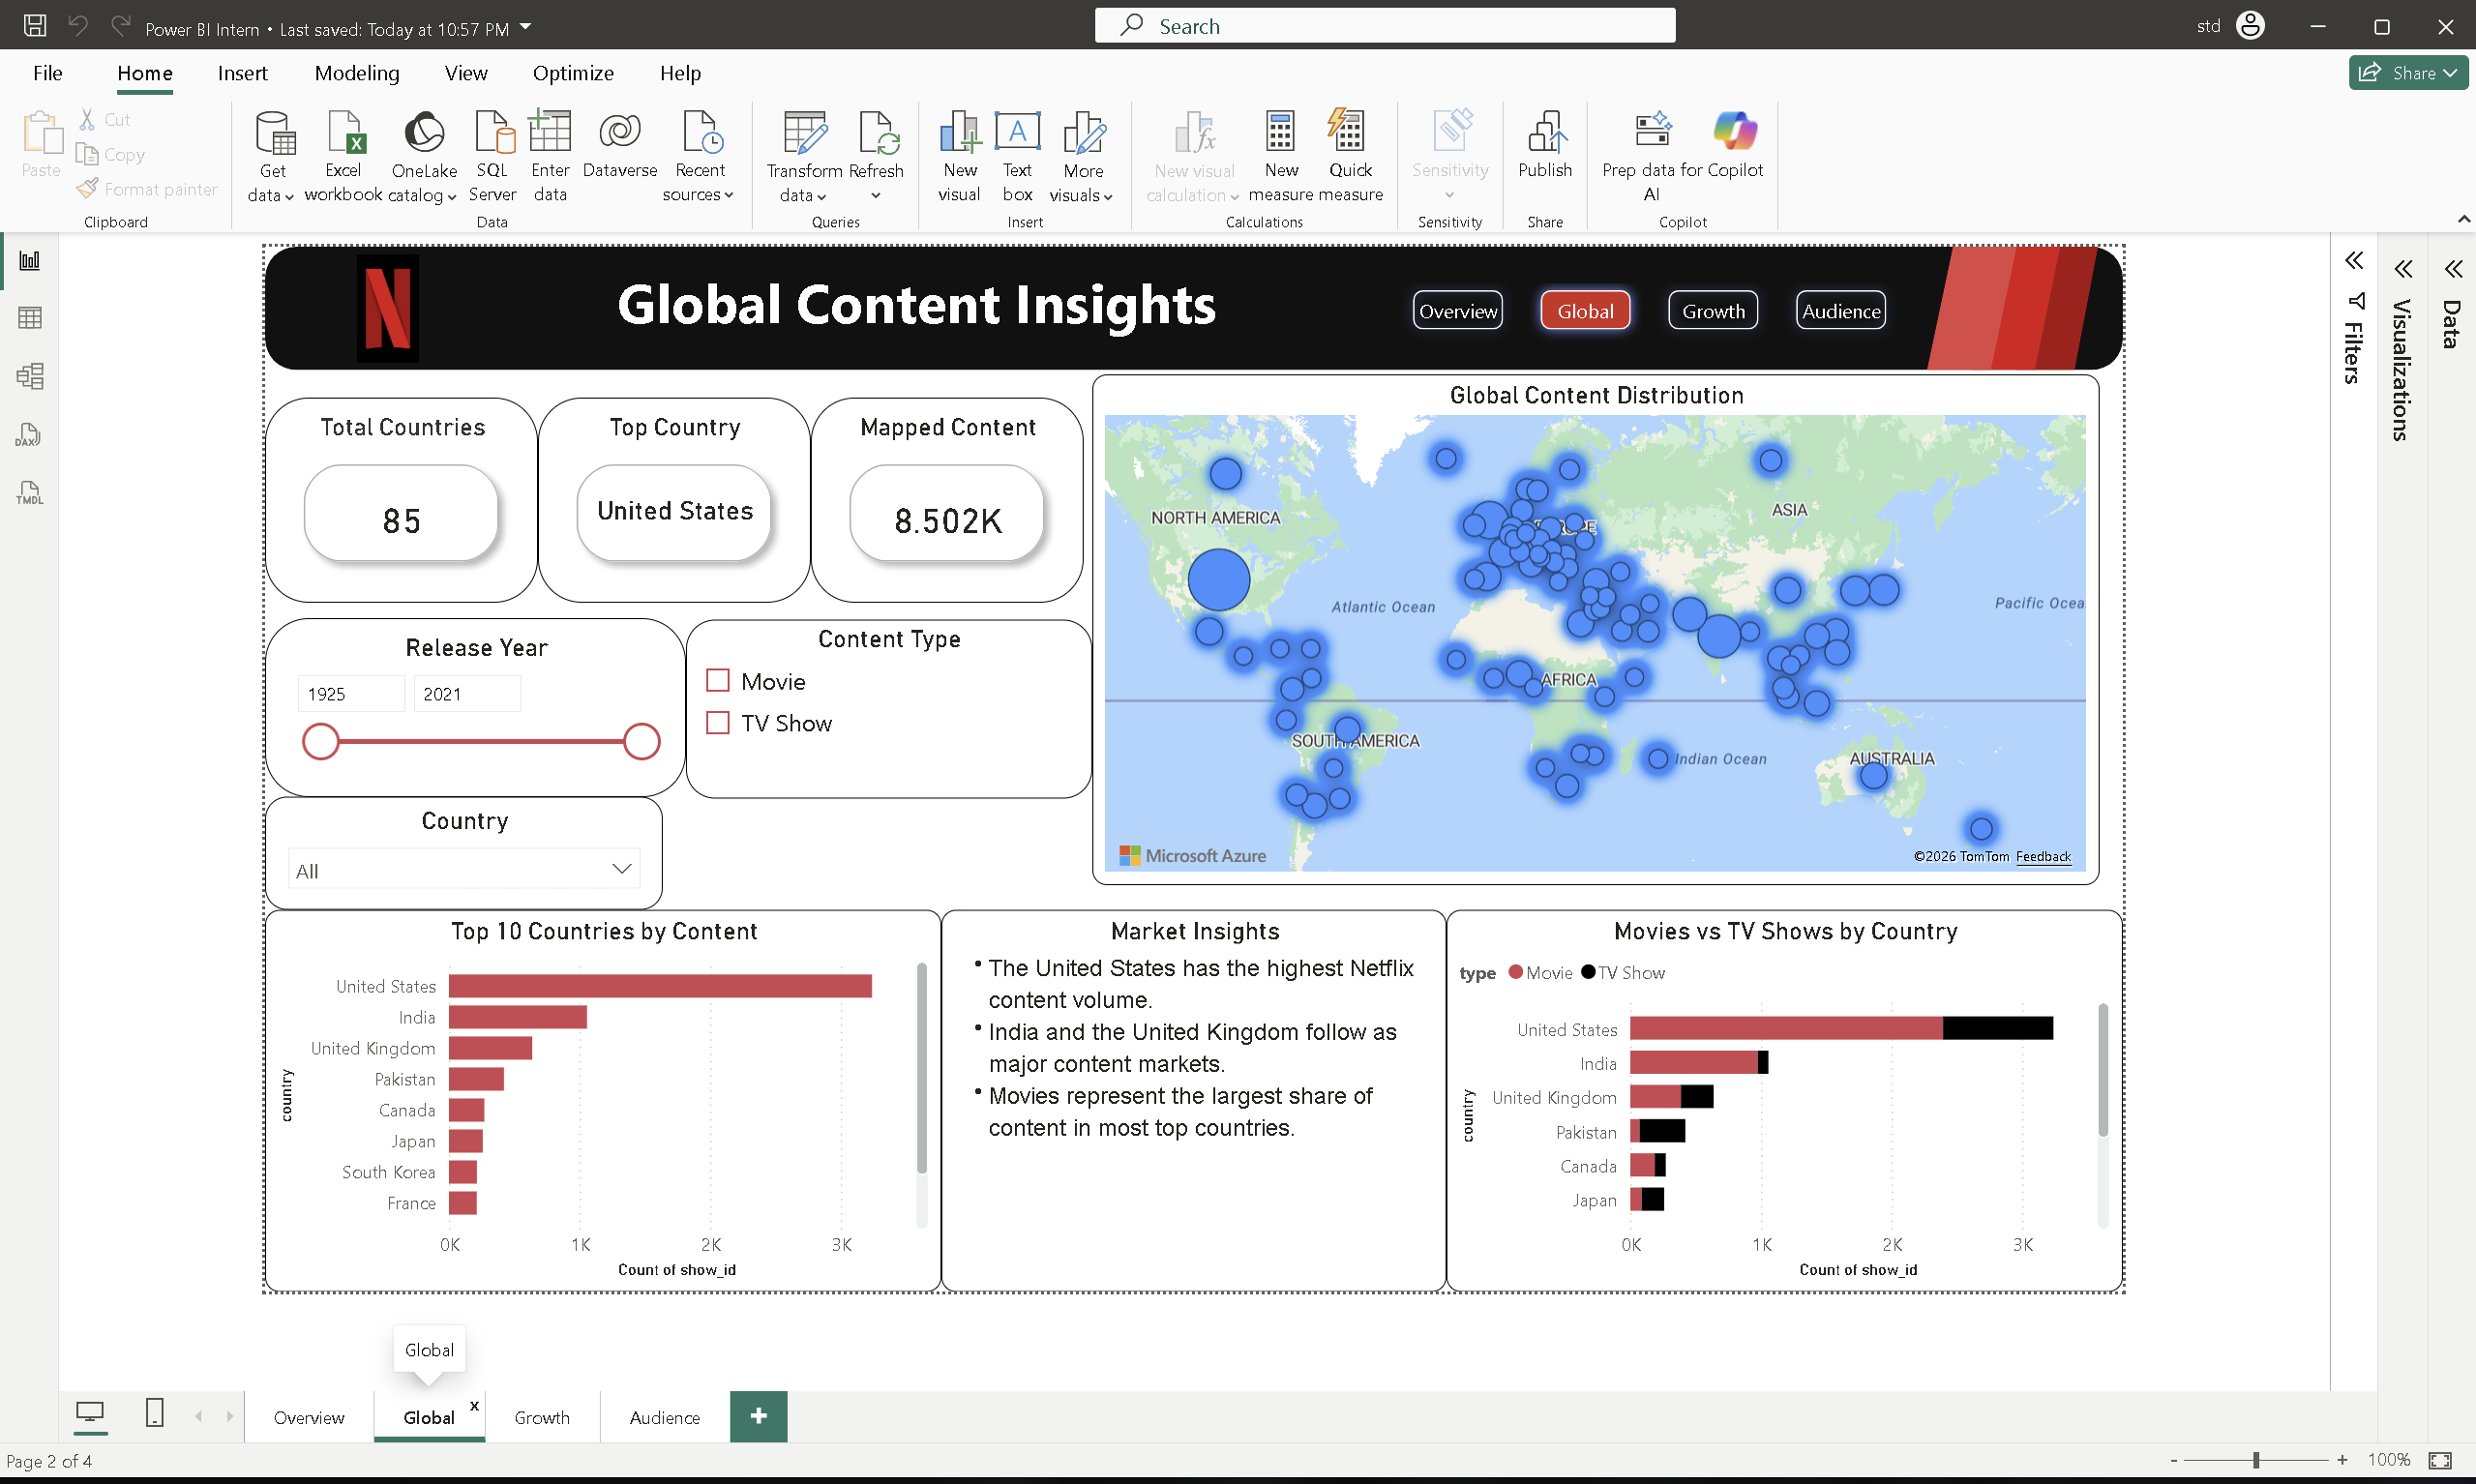

The page's visual inventory and layout, read from the dashboard file:
{"tool":"powerbi","page":{"name":"Global","canvas":[1280,720],"ordinal":1},"visuals":[{"type":"cardVisual","title":"Total Countries","fields":{"Data":["Count(Countries.country)"]},"box":[0,104,188,141],"z":0},{"type":"cardVisual","title":"Top Country","fields":{"Data":["Countries.Top Country"]},"box":[188,104,188,141],"z":1000},{"type":"cardVisual","title":"Mapped Content","fields":{"Data":["Count(Countries.show_id)"]},"box":[376,104,188,141],"z":2000},{"type":"clusteredBarChart","title":"Top 10 Countries by Content","fields":{"Category":["Countries.country"],"Y":["Count(Countries.show_id)"]},"box":[0,457,466,263],"z":3000},{"type":"azureMap","title":"Global Content Distribution","fields":{"Category":["Countries.country"],"Size":["Count(Countries.show_id)"]},"box":[570,88,694,352],"z":4000},{"type":"barChart","title":"Movies vs TV Shows by Country","fields":{"Category":["Countries.country"],"Series":["Countries.type"],"Y":["Count(Countries.show_id)"]},"box":[814,457,466,263],"z":5000},{"type":"slicer","title":"Country","fields":{"Values":["Countries.country"]},"box":[0,379,274,78],"z":6000},{"type":"slicer","title":"Content Type","fields":{"Values":["Countries.type"]},"box":[290,257,280,123],"z":7000},{"type":"slicer","title":"Release Year","fields":{"Values":["Countries.release_year"]},"box":[0,256,290,123],"z":8000},{"type":"textbox","title":"Market Insights","box":[466,457,348,263],"z":9000},{"type":"shape","box":[0,0,1280,85],"z":10000},{"type":"textbox","box":[115,7,667.8,74.6],"z":11000},{"type":"shape","box":[1206.6,0,56.8,85.3],"z":12000},{"type":"shape","box":[1175.8,0,61.6,85.3],"z":13000},{"type":"shape","box":[1145,0,61.6,85.3],"z":14000},{"type":"image","box":[29.6,0,108.9,85.3],"z":15000},{"type":"pageNavigator","box":[783,22,343,43],"z":15001}]}

Visuals, with their boxes on the page's 1280x720 design canvas (x1, y1, x2, y2). These are canvas units, not pixel positions in the 2476x1484 screenshot, which may show the page scaled, cropped or inside an application window:
"Total Countries" cardVisual: (0, 104, 188, 245)
"Top Country" cardVisual: (188, 104, 376, 245)
"Mapped Content" cardVisual: (376, 104, 564, 245)
"Top 10 Countries by Content" clusteredBarChart: (0, 457, 466, 720)
"Global Content Distribution" azureMap: (570, 88, 1264, 440)
"Movies vs TV Shows by Country" barChart: (814, 457, 1280, 720)
"Country" slicer: (0, 379, 274, 457)
"Content Type" slicer: (290, 257, 570, 380)
"Release Year" slicer: (0, 256, 290, 379)
"Market Insights" textbox: (466, 457, 814, 720)
shape: (0, 0, 1280, 85)
textbox: (115, 7, 783, 82)
shape: (1207, 0, 1263, 85)
shape: (1176, 0, 1237, 85)
shape: (1145, 0, 1207, 85)
image: (30, 0, 138, 85)
pageNavigator: (783, 22, 1126, 65)
